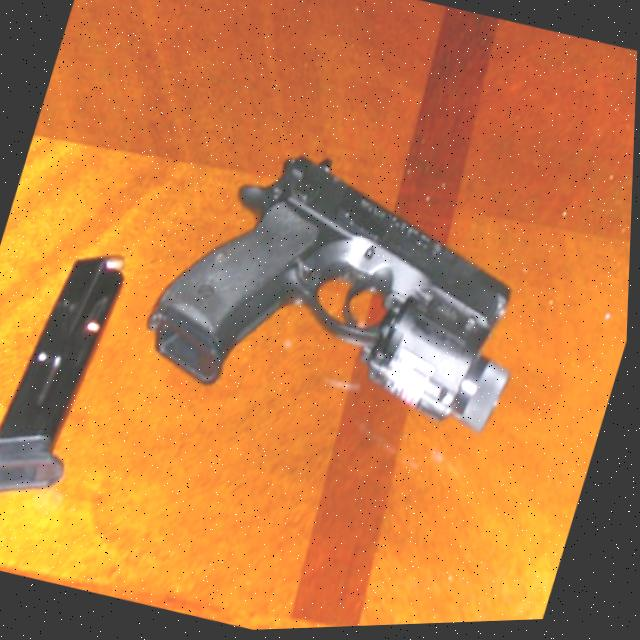pistol: (131, 122, 562, 464)
